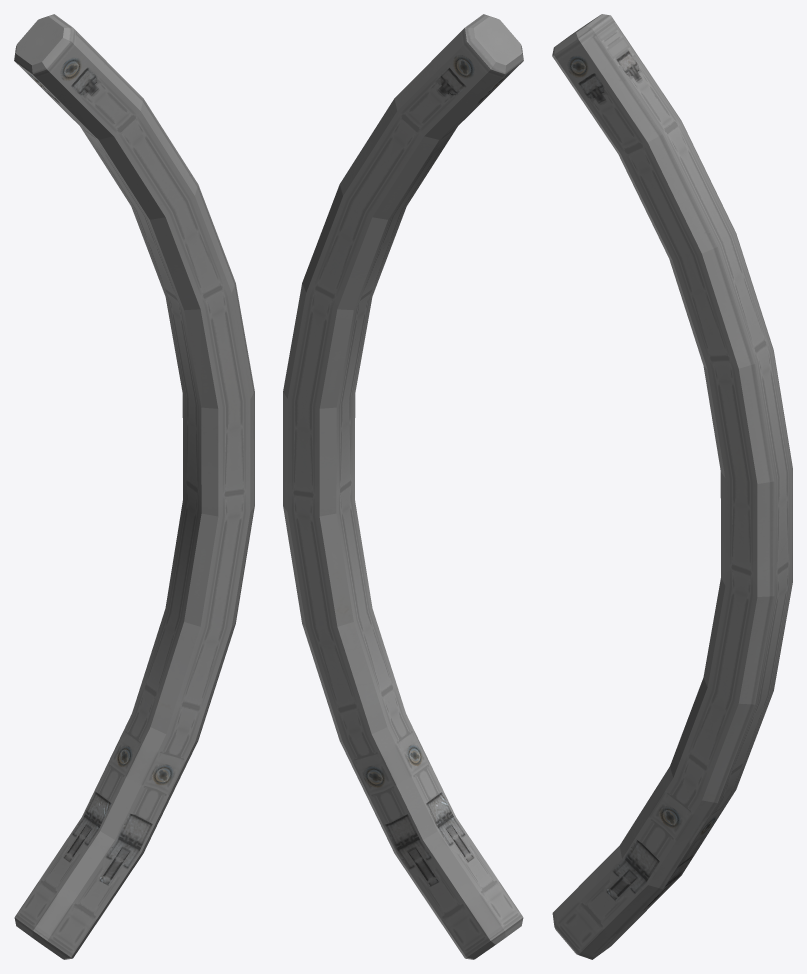
Rendered from SM_PillarS01cc.fbx.
3 renders of one model, left to right at view 1: azimuth 30°, elevation 25°; view 2: azimuth 150°, elevation 25°; view 3: azimuth 330°, elevation 25°, orthographic.
Visible parts, largest first — view 1: SM_PillarS01cc_LOD0; view 2: SM_PillarS01cc_LOD0; view 3: SM_PillarS01cc_LOD0.
Boxes of the visible parts, bbox=[...] form: SM_PillarS01cc_LOD0: bbox=[14, 14, 254, 959]; SM_PillarS01cc_LOD0: bbox=[283, 14, 523, 959]; SM_PillarS01cc_LOD0: bbox=[552, 14, 792, 959].
Size of the model in its own units: 82.89 by 20 by 332.
